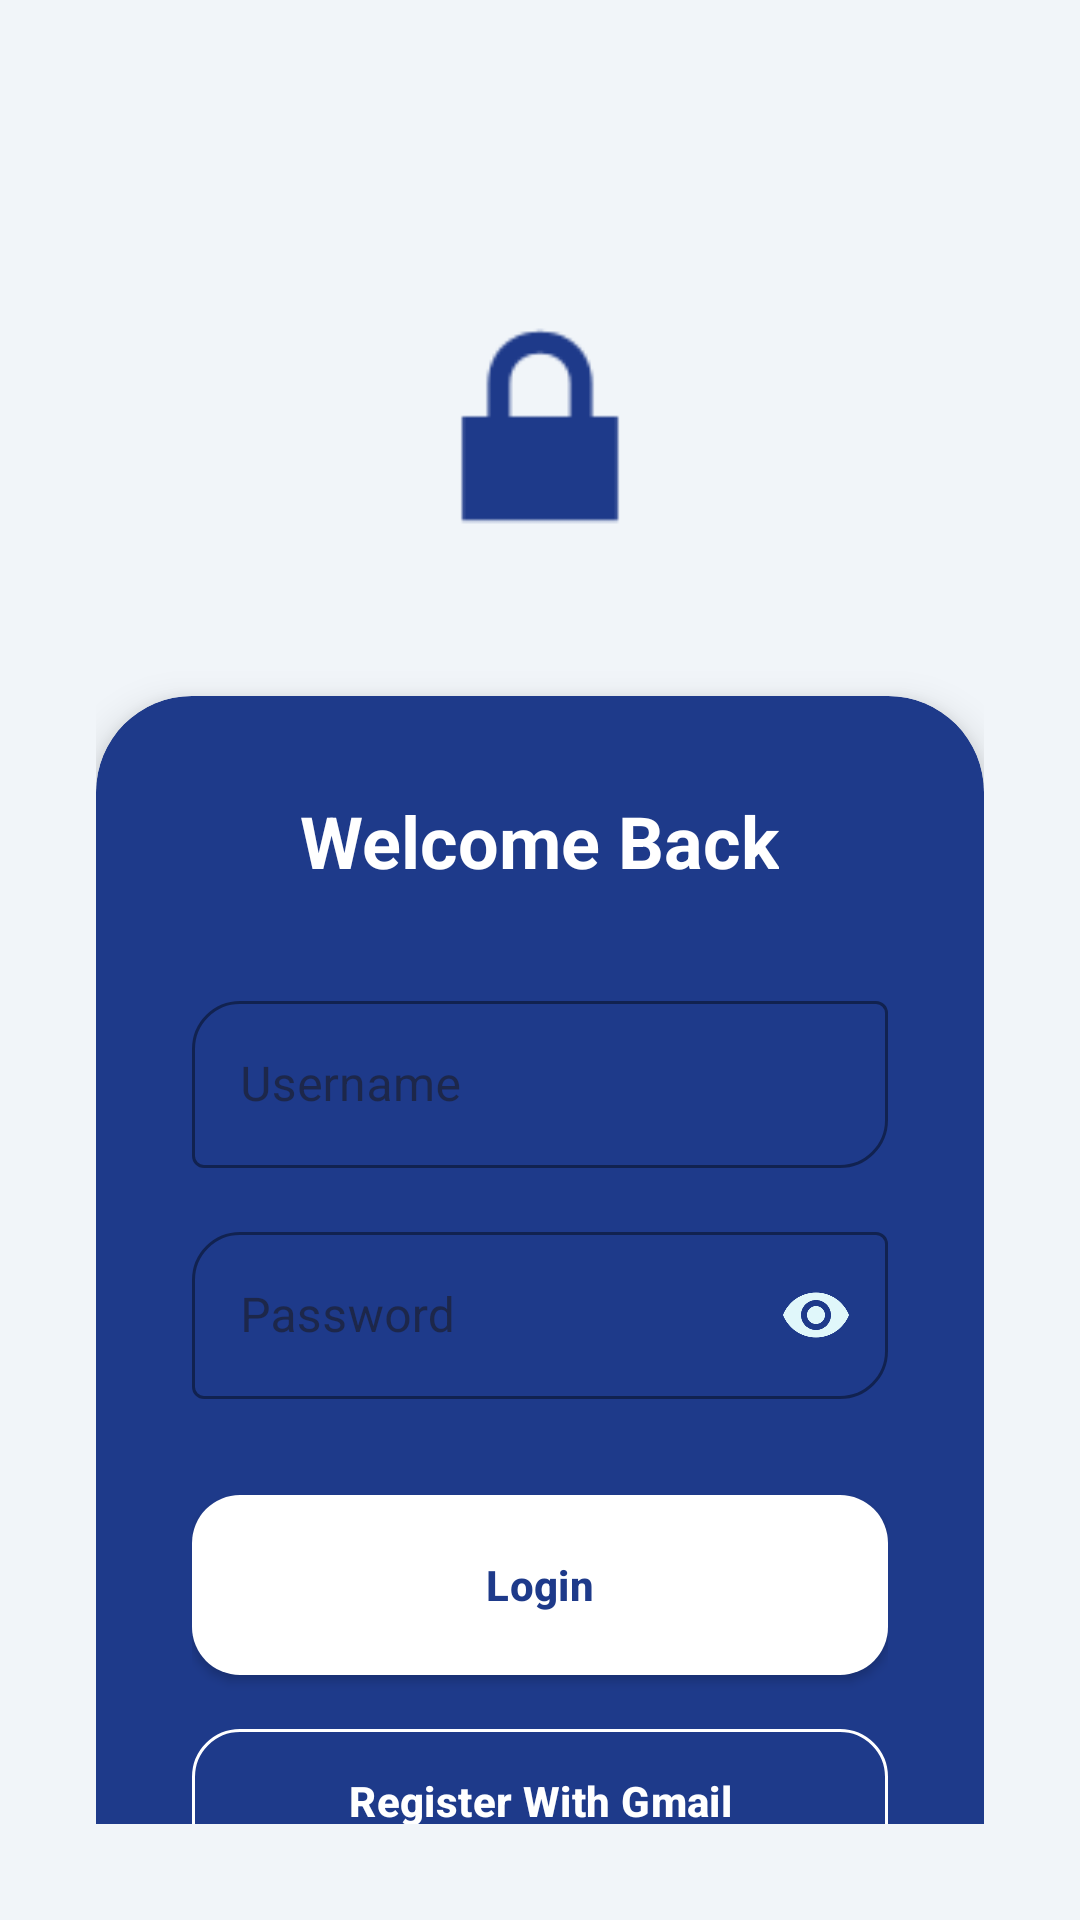

Point at icon controls on the screen. Image size 1080x1920, points as point (x, y).
lock: point (540, 426)
